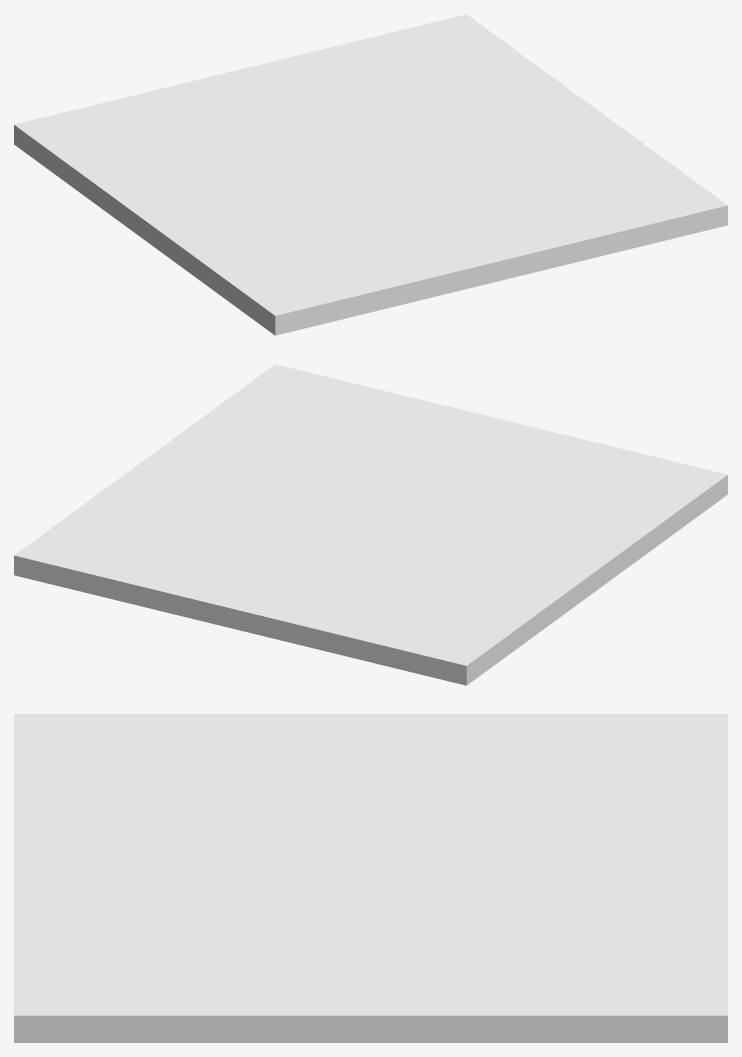
The model's file is Minimal_White.glb.
The picture shows the model from 3 angles, top to bottom: view 1: azimuth 30°, elevation 25°; view 2: azimuth 150°, elevation 25°; view 3: azimuth 270°, elevation 25°; orthographic projection. The views are drawn at different scales.
Visible parts, largest first — view 1: PF_SimpleWhite; view 2: PF_SimpleWhite; view 3: PF_SimpleWhite.
Part boxes in pixels (<box>): PF_SimpleWhite: <box>14,14,727,335</box>; PF_SimpleWhite: <box>14,364,727,685</box>; PF_SimpleWhite: <box>14,714,727,1042</box>.
Bounding box in the file's own units: 1.3 × 0.0546 × 1.3.
Materials: 3 (1 with a texture image).
